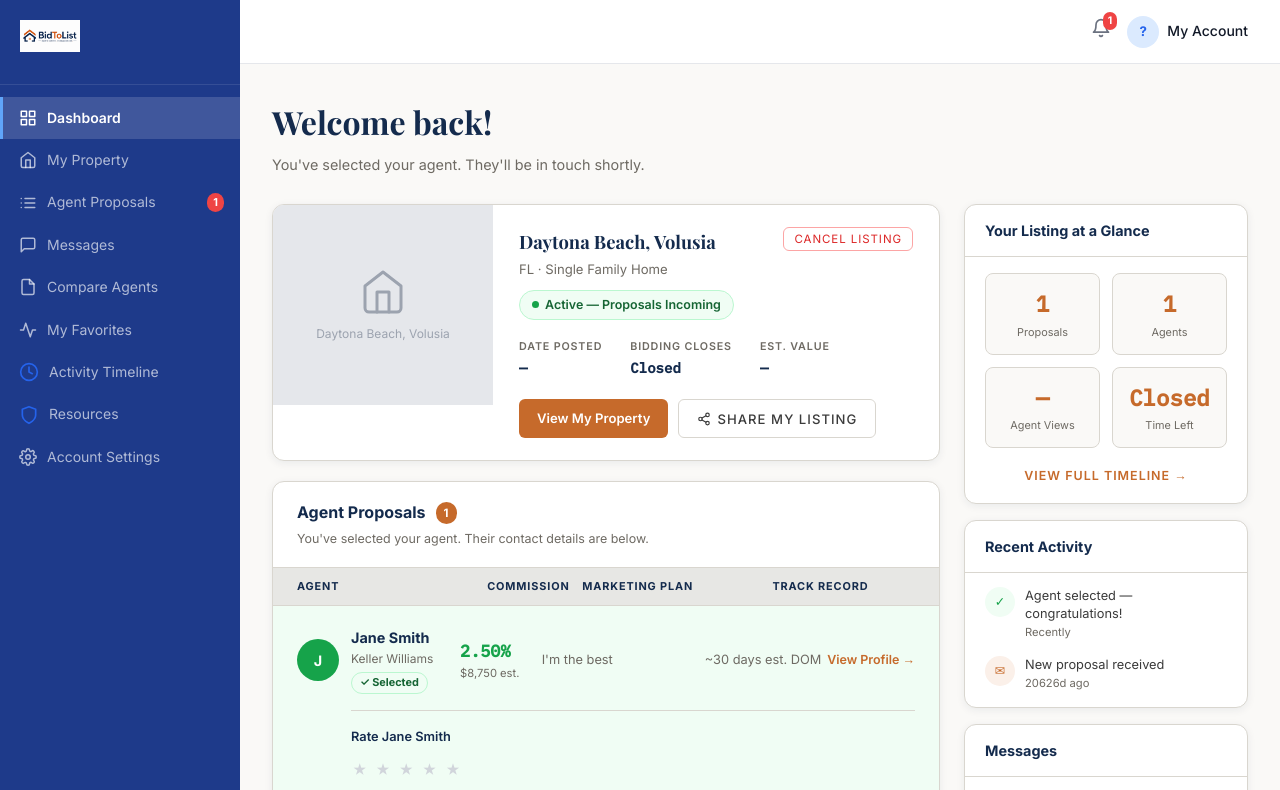
Test: MyBidsPage — review form › shows confirmation message after successful review
Click the button with test id "star-5" at (454, 767), box top-left (444, 756), bottom-right (463, 778)
(page scrolled)
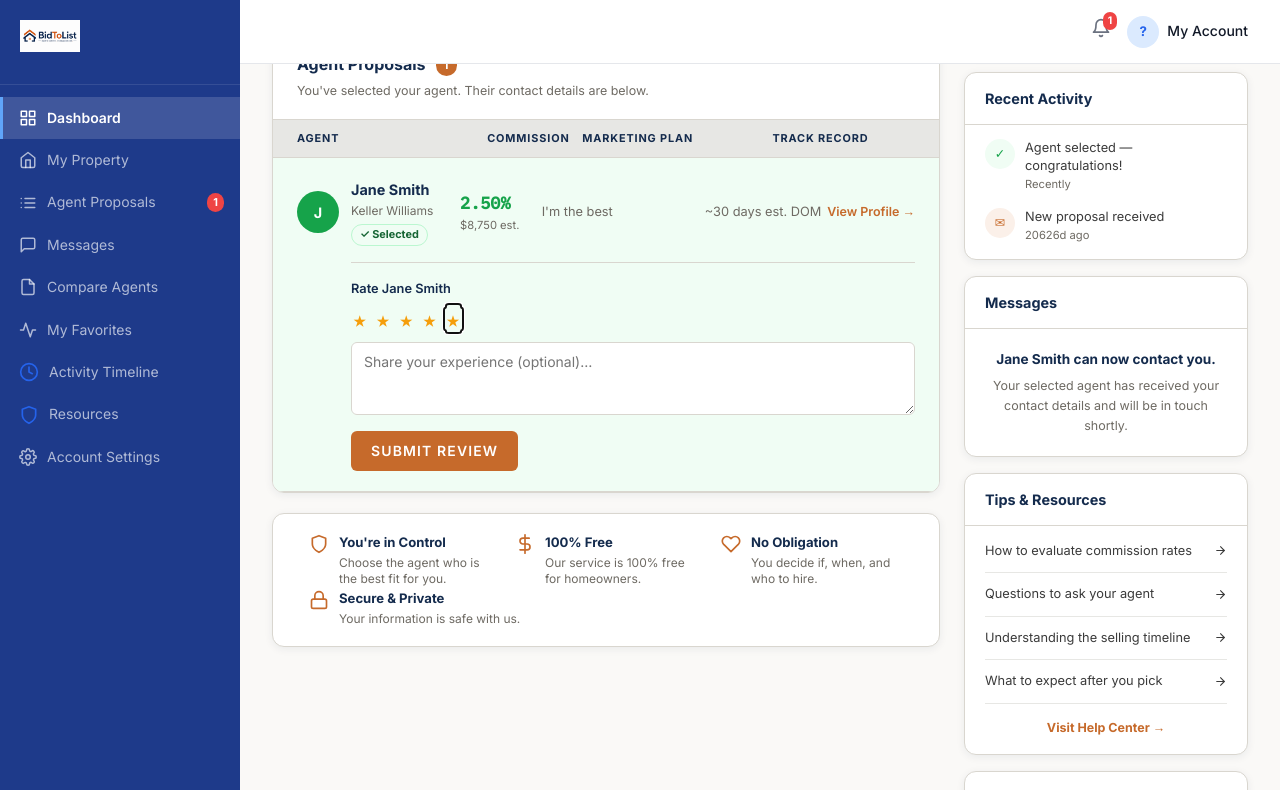
Click the button with test id "review-submit" at (435, 450), box top-left (351, 430), bottom-right (518, 470)
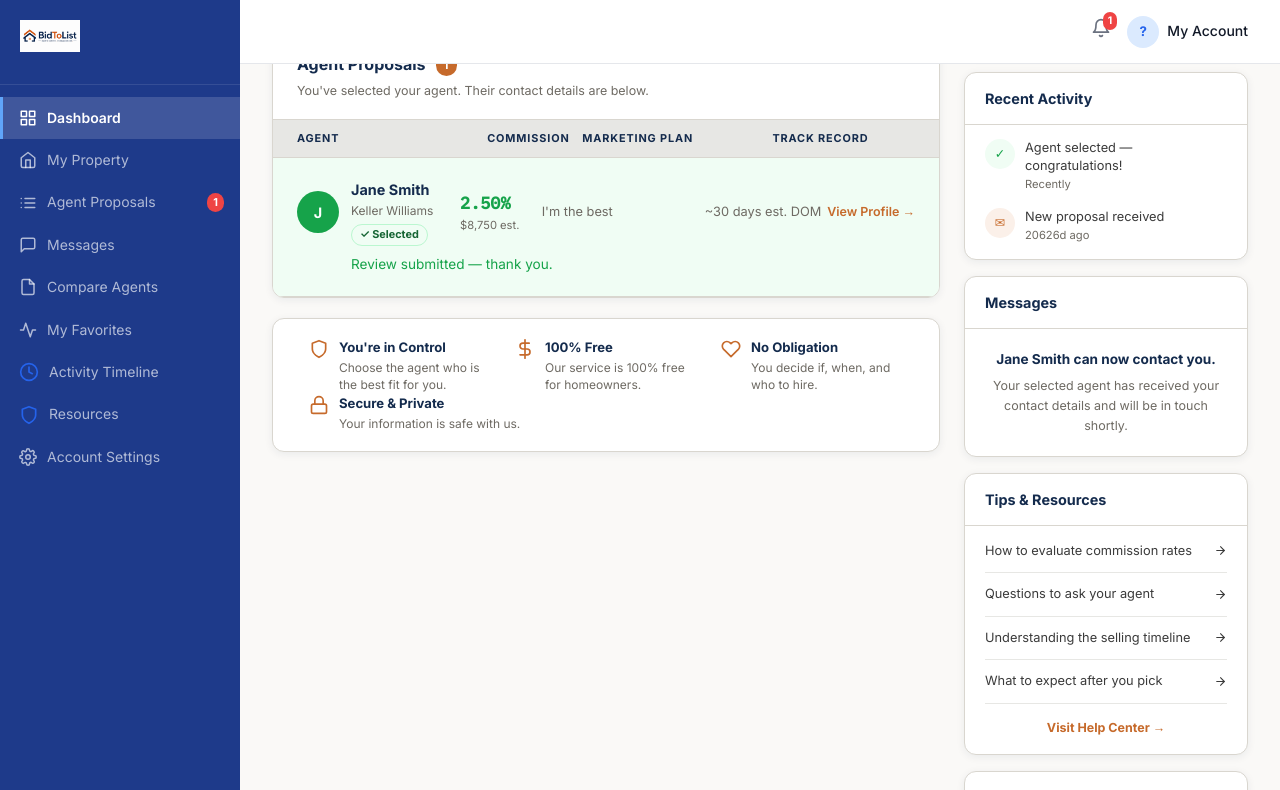
Check: the text "Review submitted — thank you." is shown, box top-left (351, 256), bottom-right (553, 272)
